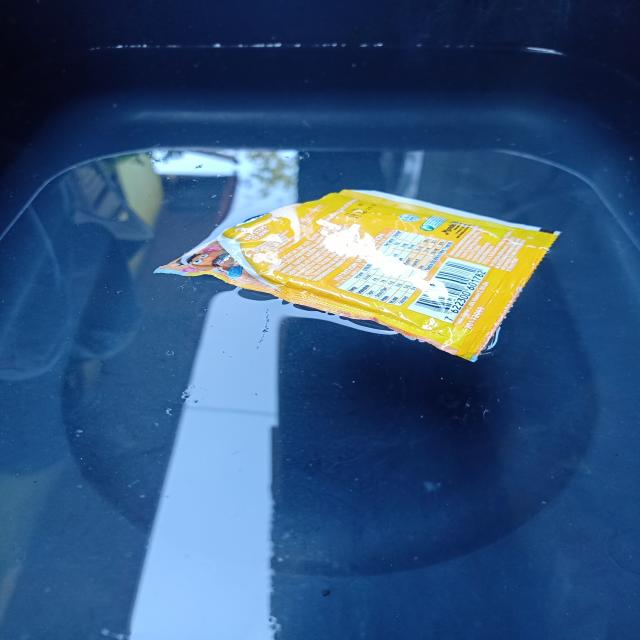Plastic Wrapper: (158, 190, 559, 360)
